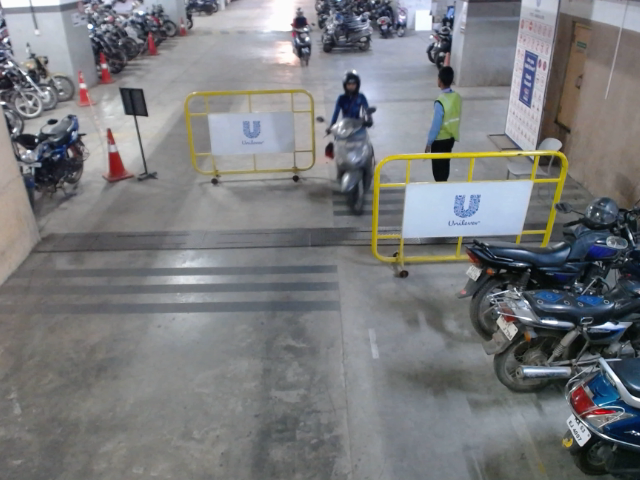with_helmet: (340, 70, 362, 98)
